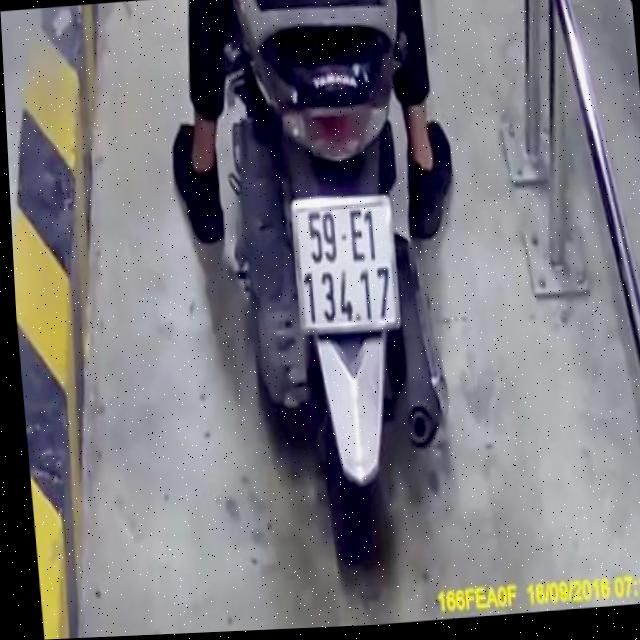motorcycle: (215, 22, 464, 571)
plate: (283, 184, 407, 337)
